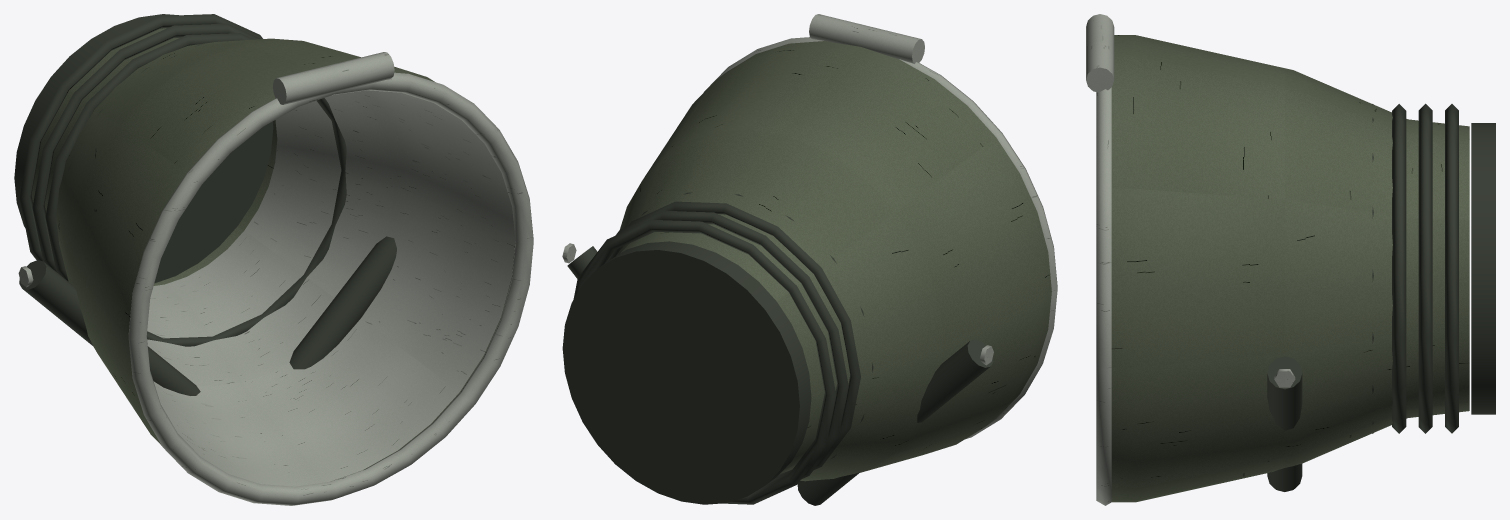
File: SM_FieldKit_LampHead.glb
3 renders of one model, left to right at view 1: azimuth 30°, elevation 25°; view 2: azimuth 150°, elevation 25°; view 3: azimuth 270°, elevation 25°, orthographic. The views are drawn at different scales.
Parts seen in each view (by area): view 1: SM_FieldKit_LampHead; view 2: SM_FieldKit_LampHead; view 3: SM_FieldKit_LampHead.
Part boxes in pixels (x1,y1,x2,y2): SM_FieldKit_LampHead: (14, 14, 533, 505); SM_FieldKit_LampHead: (562, 14, 1057, 505); SM_FieldKit_LampHead: (1086, 14, 1495, 505).
Bounding box in the file's own units: 0.2961 × 0.278 × 0.233.
3 materials, 2 textured.
